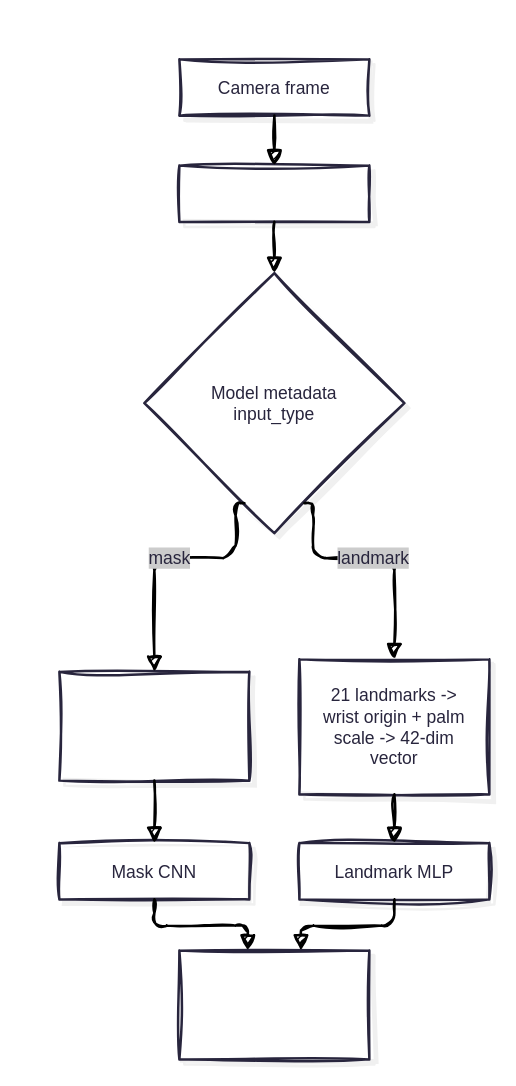
This 516x1086 diagram has some shape labels left out. The shapes that lost their labels are listed below. From the top down, each one's centre as x and y in pixels, then its label:
At (276,196): "HandDetector".
At (156,728): "YCrCb skin segmentation -> 128x128 mask".
At (276,1007): "GesturePrediction: class + confidence".
